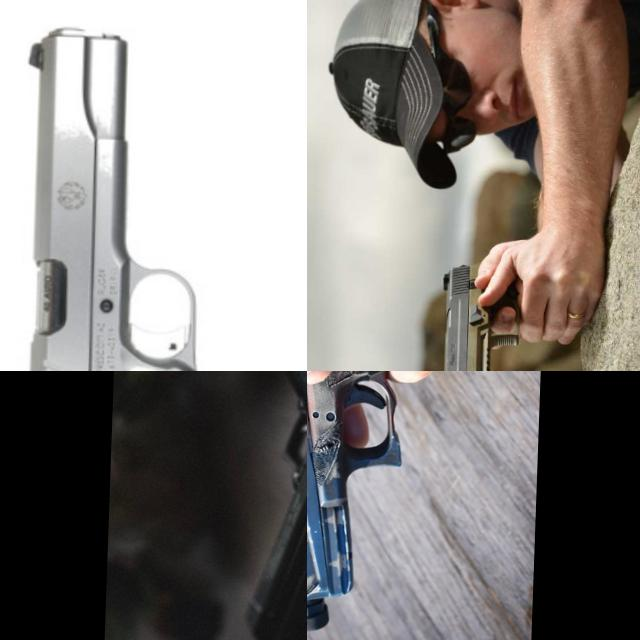handgun: (2, 19, 307, 371), (307, 371, 536, 638), (237, 371, 307, 640), (434, 255, 525, 371)
